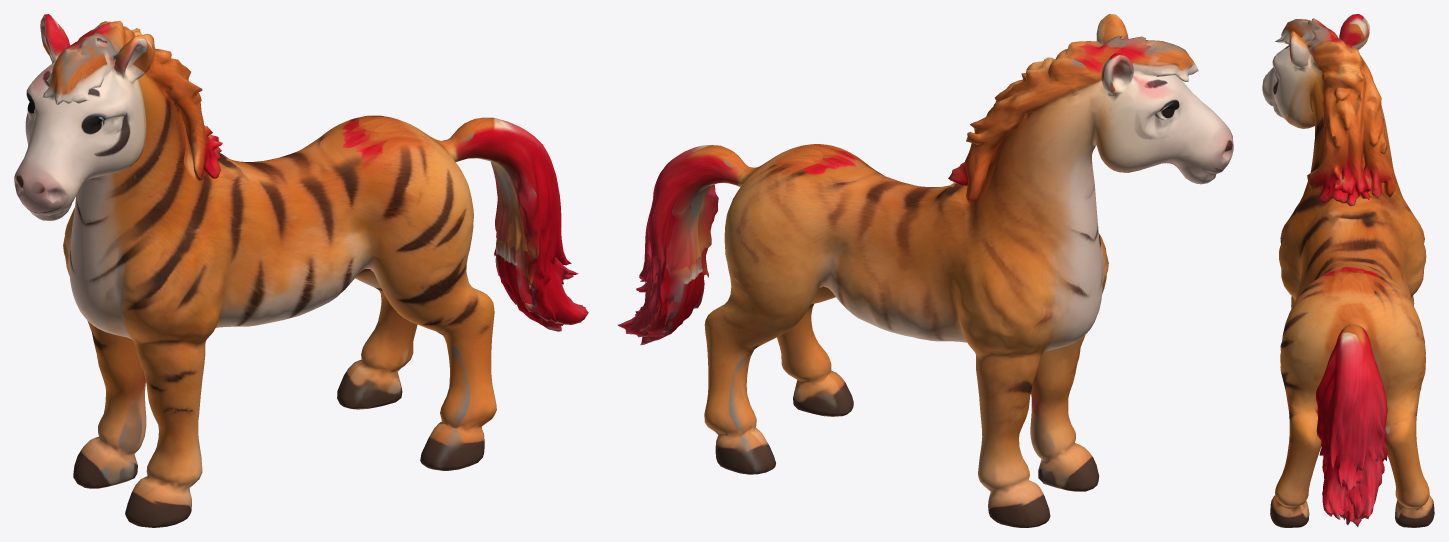
The model's file is lushu-B5tBPqcj.glb.
3 renders of one model, left to right at view 1: azimuth 30°, elevation 25°; view 2: azimuth 150°, elevation 25°; view 3: azimuth 270°, elevation 25°, orthographic. The views are drawn at different scales.
Visible parts, largest first — view 1: tripo_node_c026cd53-8c80-4331-8f6b-d423a5d1241a; view 2: tripo_node_c026cd53-8c80-4331-8f6b-d423a5d1241a; view 3: tripo_node_c026cd53-8c80-4331-8f6b-d423a5d1241a.
Part boxes in pixels (bbox=[...]): tripo_node_c026cd53-8c80-4331-8f6b-d423a5d1241a: bbox=[14, 14, 588, 527]; tripo_node_c026cd53-8c80-4331-8f6b-d423a5d1241a: bbox=[617, 14, 1233, 527]; tripo_node_c026cd53-8c80-4331-8f6b-d423a5d1241a: bbox=[1262, 14, 1434, 527].
Bounding box in the file's own units: 0.9998 × 0.7953 × 0.3304.
Materials: 1 (1 with a texture image).
